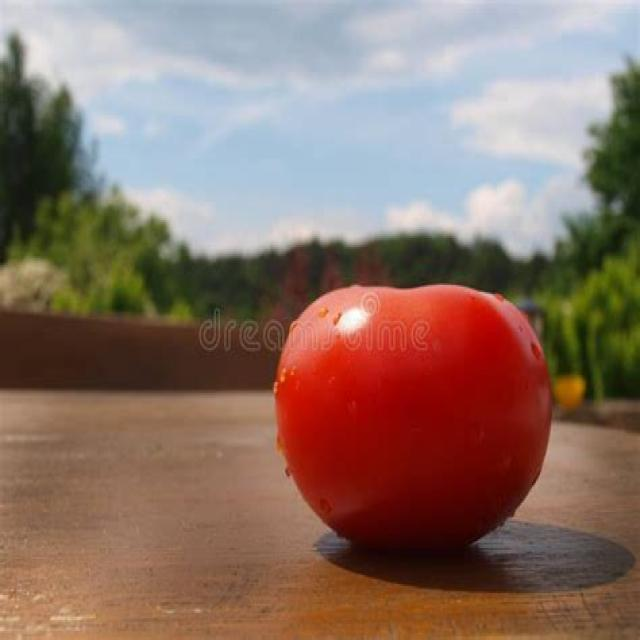Tomato: (272, 285, 554, 556)
